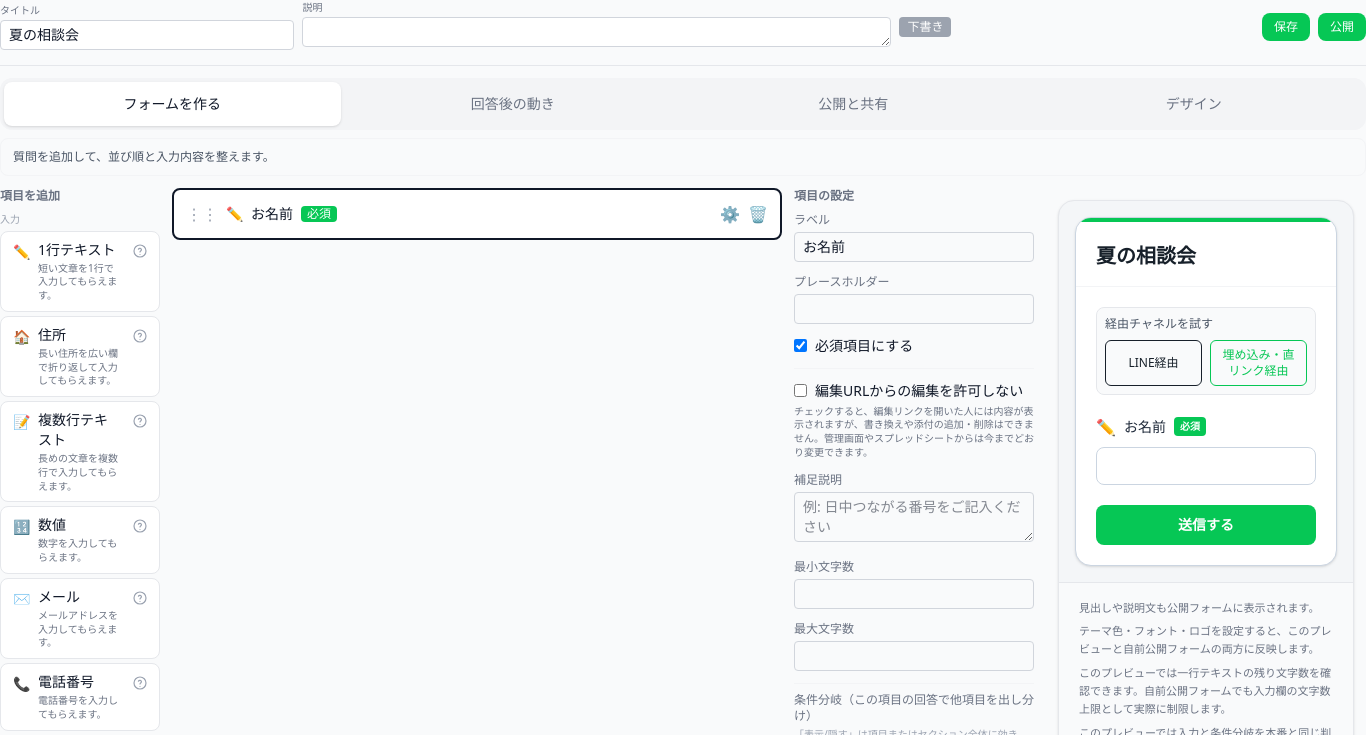
Test case: internal publish confirmation › keeps publish failure inside the modal and supports focus, Escape, and short mobile scrolling
Click the button "公開".
click(1342, 26)  # box [1318, 12, 1365, 40]
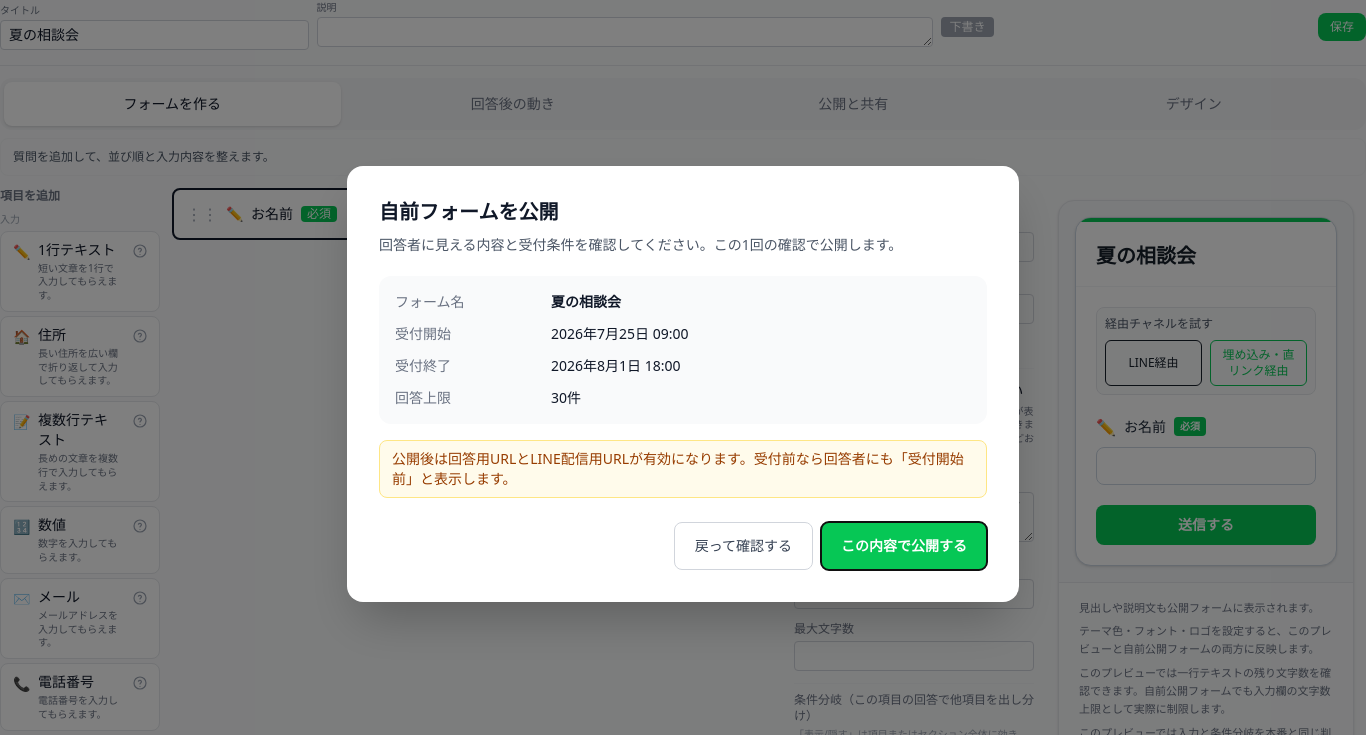
Click the button "この内容で公開する".
click(904, 546)  # box [821, 522, 987, 570]
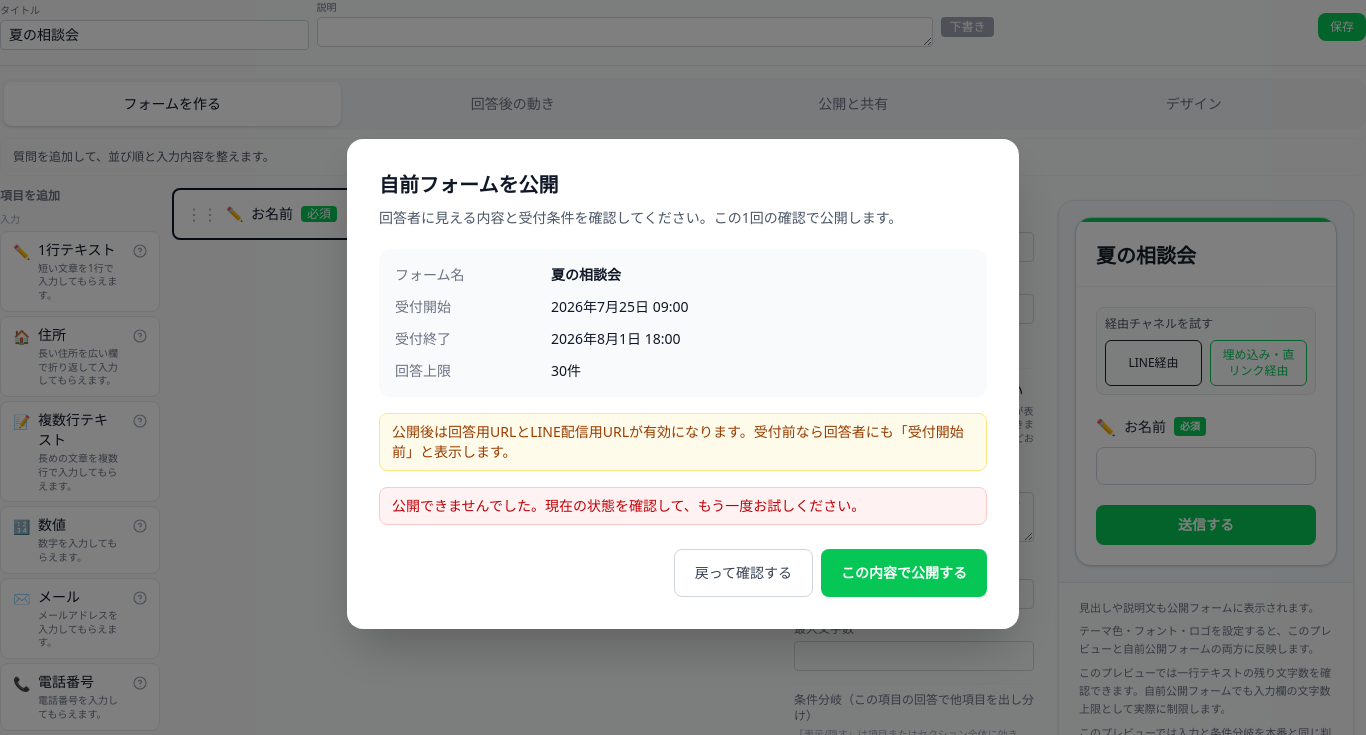
Result: the dialog "自前フォームを公開" is shown at [347, 139, 1019, 629]
Result: the message shows "公開できませんでした" at [392, 496, 865, 515]
Press Escape
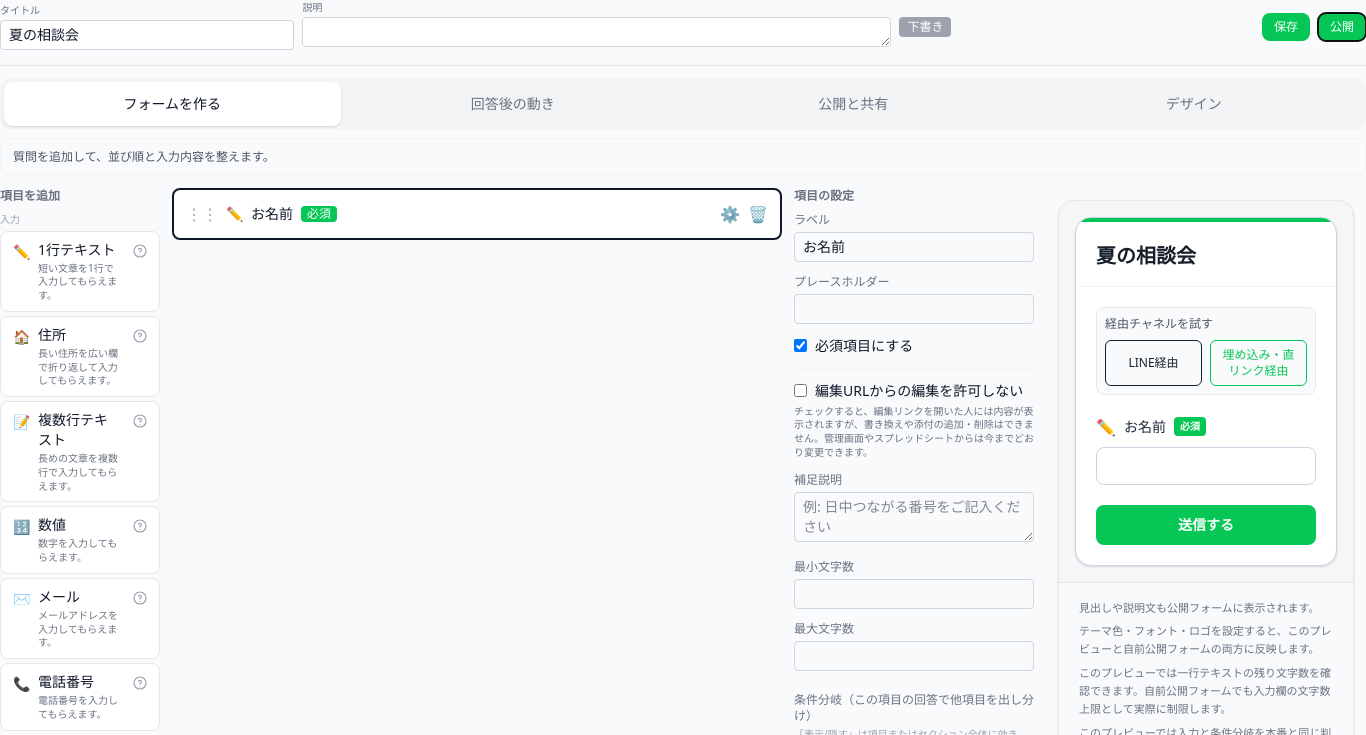
Result: the dialog is gone
